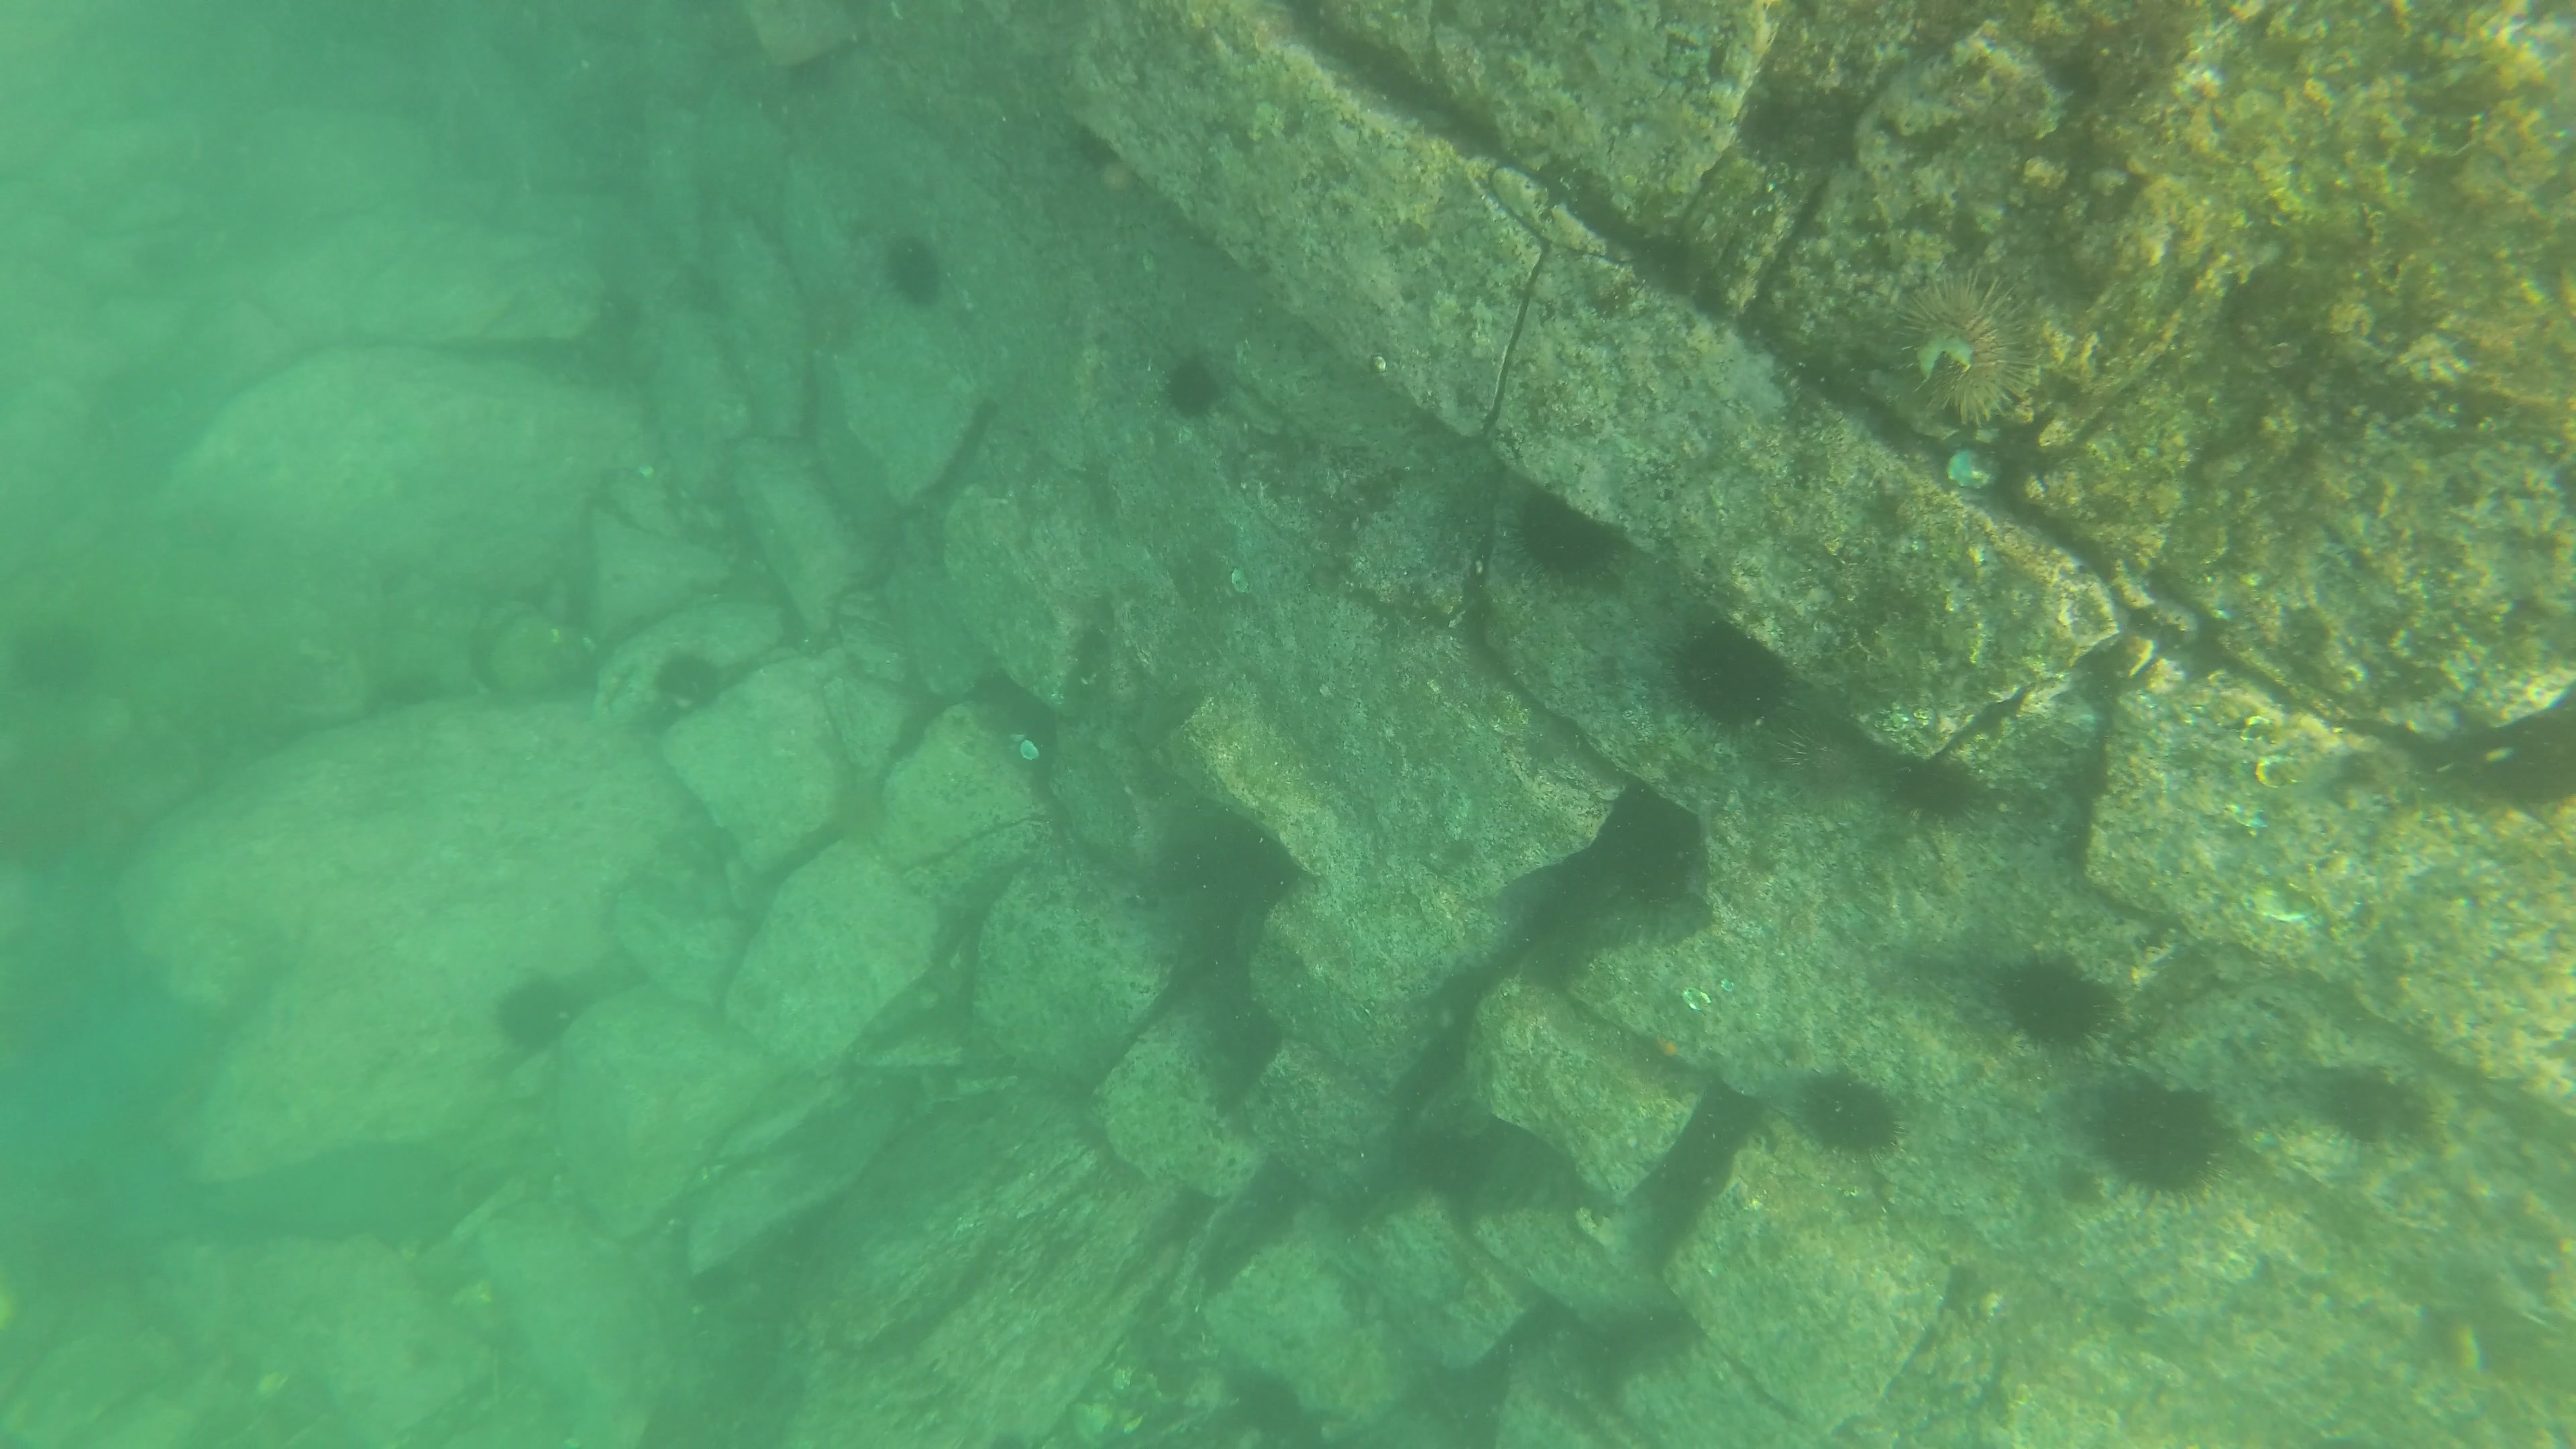echinus: (1856, 251, 2054, 442), (2084, 1081, 2242, 1214), (1677, 600, 1805, 738), (1989, 938, 2134, 1056), (1511, 467, 1644, 591), (1792, 1062, 1911, 1159), (488, 980, 598, 1058), (2311, 1070, 2403, 1155), (874, 230, 957, 320), (1155, 341, 1231, 435), (649, 646, 740, 713)
